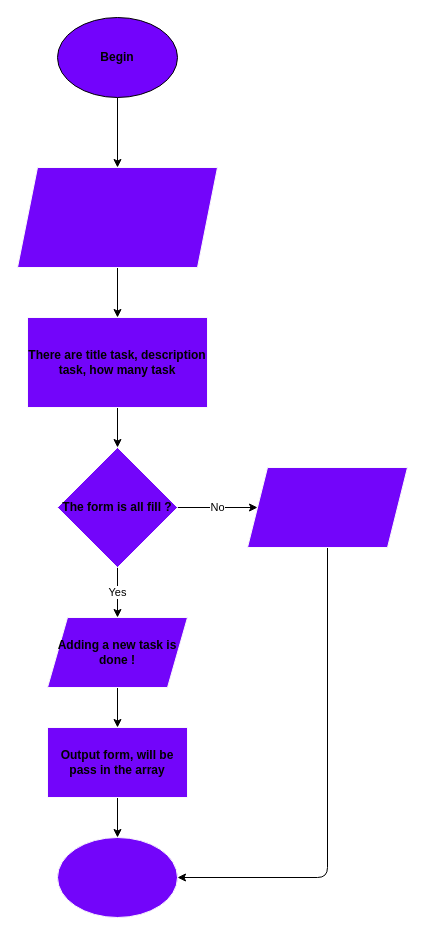
Some shapes in this 425 by 935 pixel diagram are drawn without their labels. The box of each missing label's shape, as (x1, y1, x2, y2) in pixels:
End: (56, 836, 178, 918)
Return this program ( Error ): (246, 466, 408, 548)
When popup adding task feature is appear, user will be fill in the input form: (16, 166, 218, 268)
